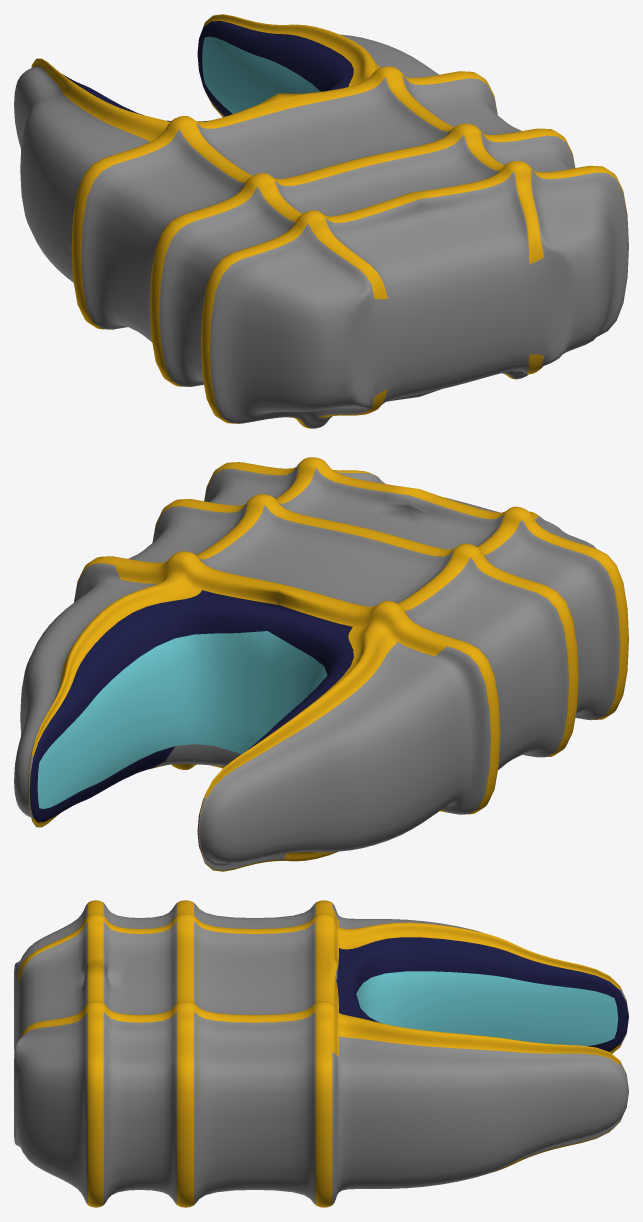
The model's file is Shuttle-SilverScale.fbx.
The picture shows the model from 3 angles, top to bottom: view 1: azimuth 30°, elevation 25°; view 2: azimuth 150°, elevation 25°; view 3: azimuth 270°, elevation 25°; orthographic projection. The views are drawn at different scales.
Parts seen in each view (by area): view 1: Shuttle SilverScale; view 2: Shuttle SilverScale; view 3: Shuttle SilverScale.
Boxes of the visible parts, x1,y1,x2,y2 form: Shuttle SilverScale: [14, 14, 628, 428]; Shuttle SilverScale: [14, 457, 628, 871]; Shuttle SilverScale: [14, 900, 628, 1207].
Bounding box in the file's own units: 324 × 157 × 459.
